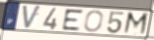4: (42, 7, 59, 30)
5: (106, 10, 125, 34)
E: (61, 9, 85, 31)
M: (121, 11, 150, 37)
O: (82, 10, 105, 33)
V: (22, 4, 43, 31)
